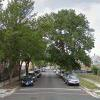Car: (18, 68, 45, 93)
